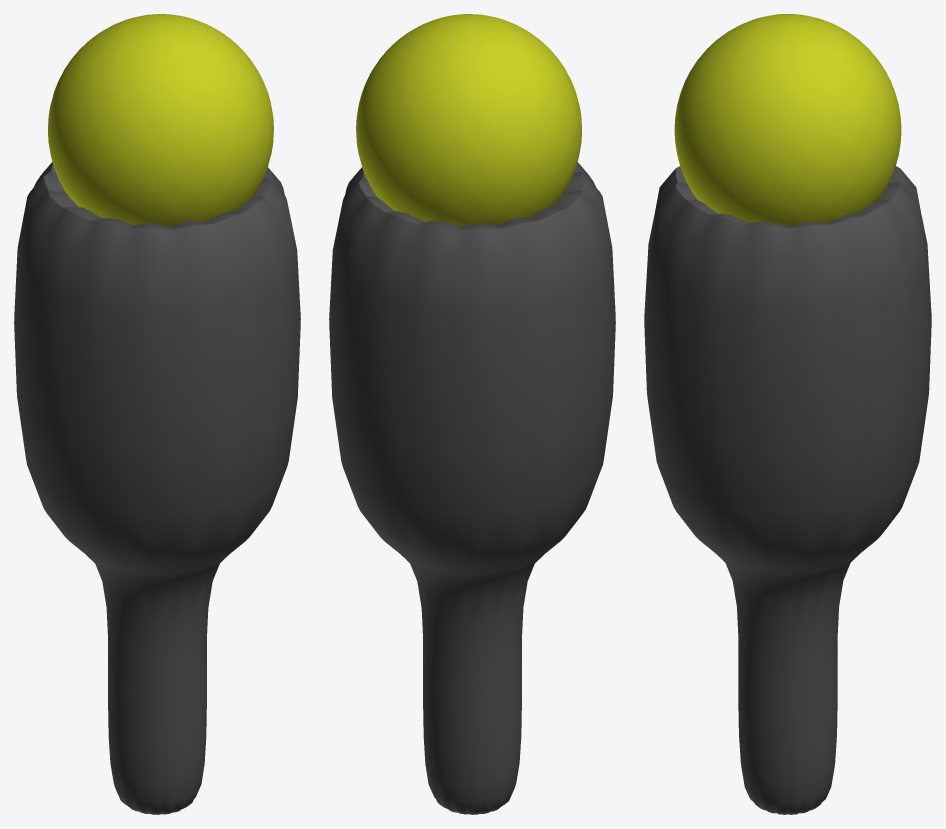
File: Lights 9.fbx
The picture shows the model from 3 angles, left to right: view 1: azimuth 30°, elevation 25°; view 2: azimuth 150°, elevation 25°; view 3: azimuth 270°, elevation 25°; orthographic projection.
Parts seen in each view (by area): view 1: Cylinder, Sphere; view 2: Cylinder, Sphere; view 3: Cylinder, Sphere.
Boxes of the visible parts, x1,y1,x2,y2 form: Cylinder: (14,162,300,814); Sphere: (48,14,273,226); Cylinder: (329,162,615,814); Sphere: (356,14,581,226); Cylinder: (644,166,931,814); Sphere: (674,14,901,226).
Bounding box in the file's own units: 95.72 × 287 × 95.72.
